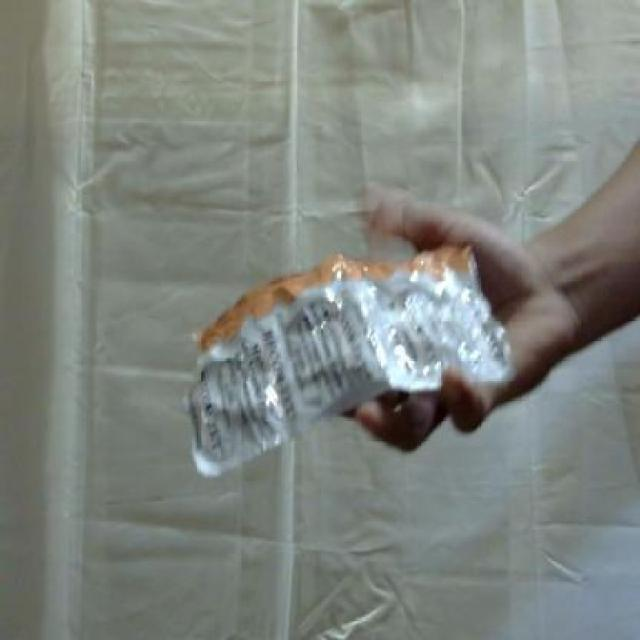Plastic: (185, 245, 519, 476)
